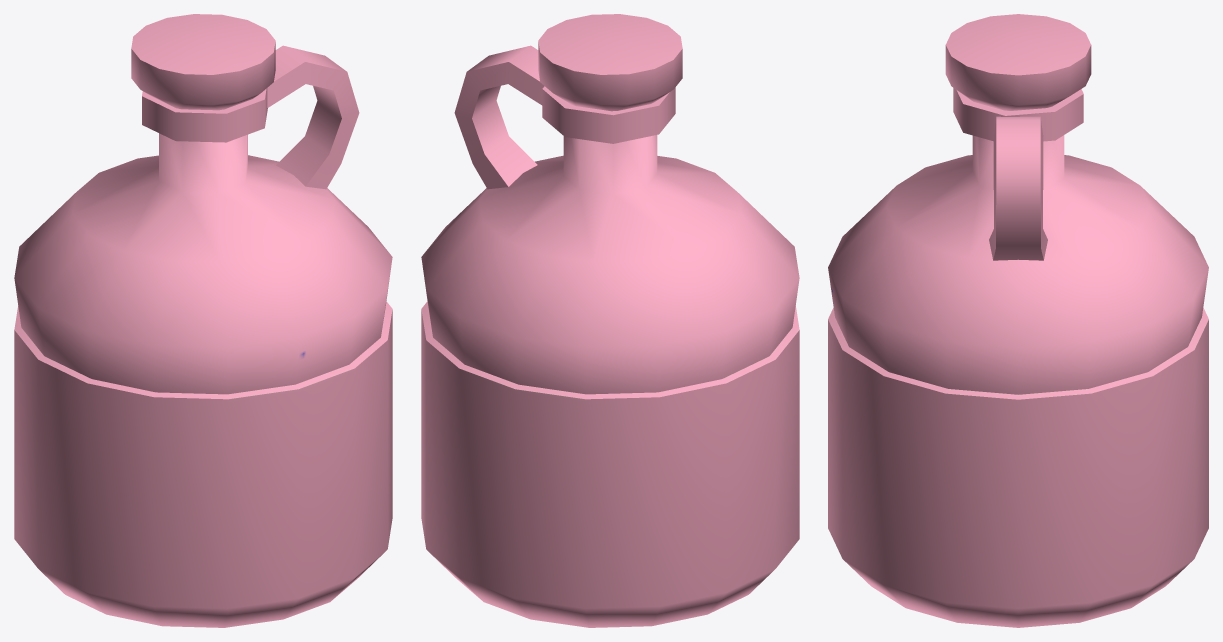
Rendered from shower.glb.
3 renders of one model, left to right at view 1: azimuth 30°, elevation 25°; view 2: azimuth 150°, elevation 25°; view 3: azimuth 270°, elevation 25°, orthographic.
Parts seen in each view (by area): view 1: node_id54, node_id58, node_id56; view 2: node_id54, node_id58, node_id56; view 3: node_id54, node_id56, node_id58.
Part boxes in pixels (left/top/right/bottom): node_id54: left=14, top=133, right=392, bottom=627; node_id58: left=142, top=45, right=359, bottom=189; node_id56: left=131, top=14, right=275, bottom=110; node_id54: left=421, top=135, right=799, bottom=627; node_id58: left=454, top=45, right=675, bottom=189; node_id56: left=538, top=14, right=682, bottom=111; node_id54: left=828, top=135, right=1208, bottom=627; node_id56: left=945, top=14, right=1091, bottom=110; node_id58: left=953, top=88, right=1083, bottom=260.
Bounding box in the file's own units: 0.3351 × 0.512 × 0.3351.
Materials: 3 (3 with a texture image).
